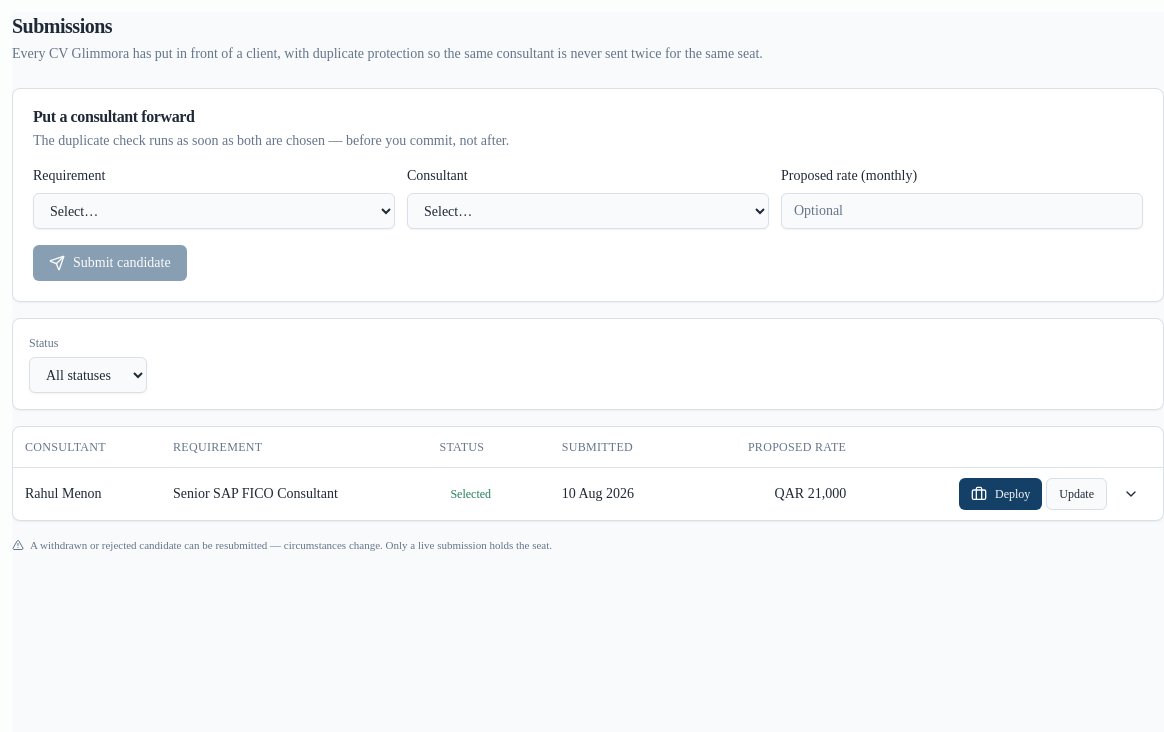
Test case: handover to delivery › explains that the rates are copied onto the deployment
Click the button "Deploy": (1001, 494) [959,478,1042,510]
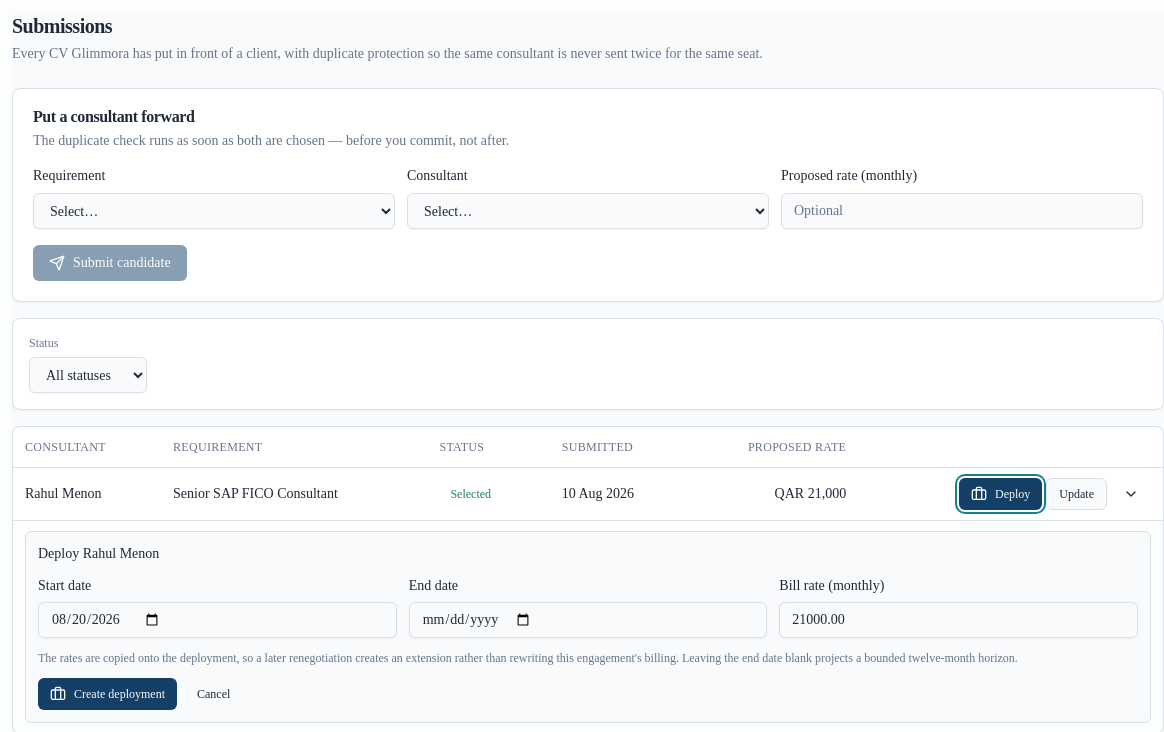
Now the text "rates are copied onto the deployment" is shown, box [38,650,1018,664]
Now the button "Create deployment" is enabled, box [38,678,177,710]
